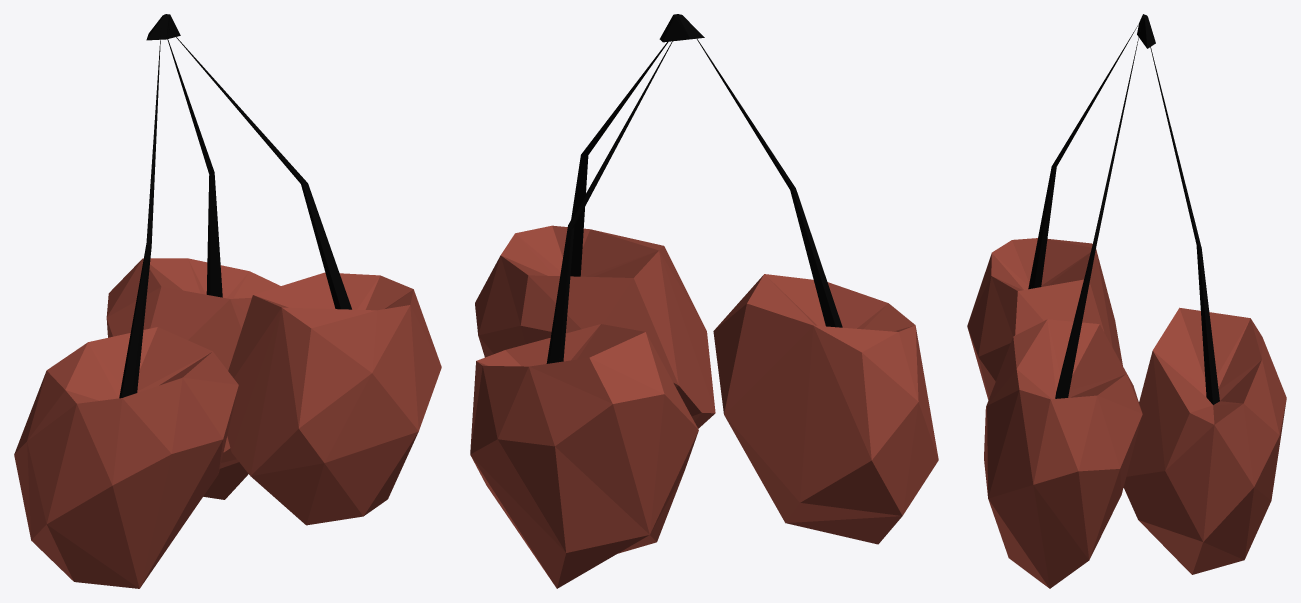
The model's file is Cherry_fruit_3.fbx.
3 renders of one model, left to right at view 1: azimuth 30°, elevation 25°; view 2: azimuth 150°, elevation 25°; view 3: azimuth 270°, elevation 25°, orthographic. The views are drawn at different scales.
Visible parts, largest first — view 1: Cherry_Fruit_3; view 2: Cherry_Fruit_3; view 3: Cherry_Fruit_3.
Part boxes in pixels (bbox=[...]): Cherry_Fruit_3: bbox=[14, 14, 441, 588]; Cherry_Fruit_3: bbox=[470, 14, 938, 588]; Cherry_Fruit_3: bbox=[967, 14, 1286, 588].
Size of the model in its own units: 59.88 by 73.65 by 41.07.
